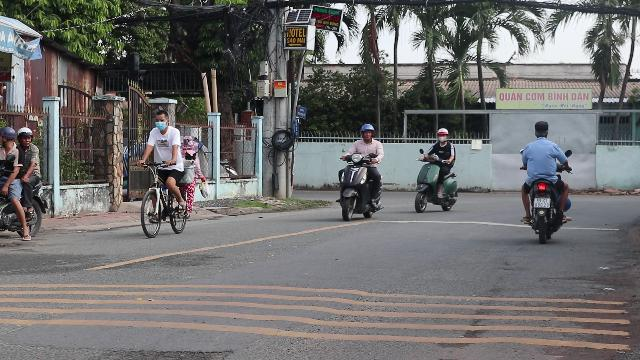helmet: (1, 127, 18, 150), (18, 126, 34, 146)
licenseplate: (532, 120, 550, 138), (534, 197, 550, 207)
motorcyclist: (517, 119, 573, 241), (0, 124, 48, 248)
nohelmet: (532, 120, 550, 138)
